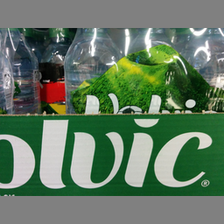water: (64, 29, 123, 114), (123, 29, 180, 114), (175, 28, 224, 114), (1, 28, 42, 112)
